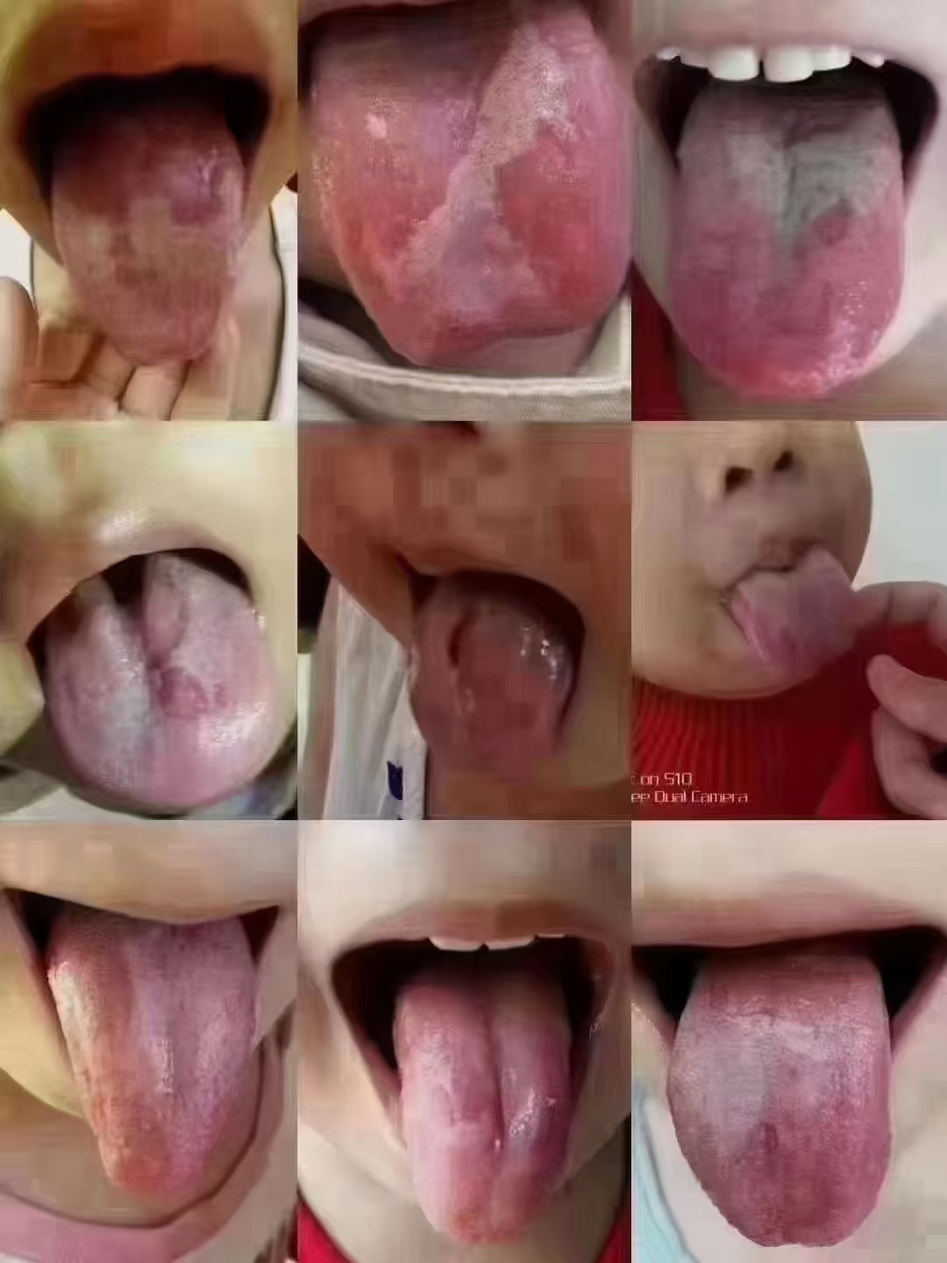baitaishe: (311, 3, 631, 367), (668, 80, 906, 399), (670, 953, 891, 1245), (48, 909, 256, 1195), (46, 552, 277, 805), (52, 111, 245, 364), (393, 981, 566, 1245), (730, 546, 855, 677)
botaishe: (487, 111, 630, 313), (744, 188, 858, 342), (57, 147, 233, 239), (105, 589, 217, 725)
hongshe: (311, 3, 631, 367), (668, 80, 906, 399), (670, 953, 891, 1245), (47, 909, 255, 1195), (411, 584, 572, 772)
